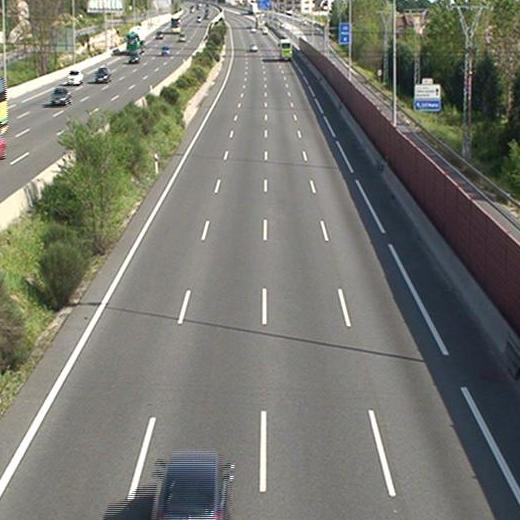bus: (279, 39, 291, 61)
car: (153, 456, 225, 520)
